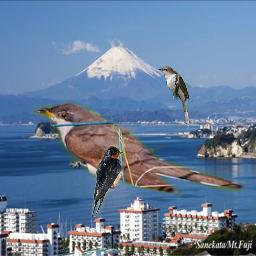Cuckoo: (32, 98, 248, 203), (157, 66, 190, 127)
Swallow: (90, 145, 124, 217)
